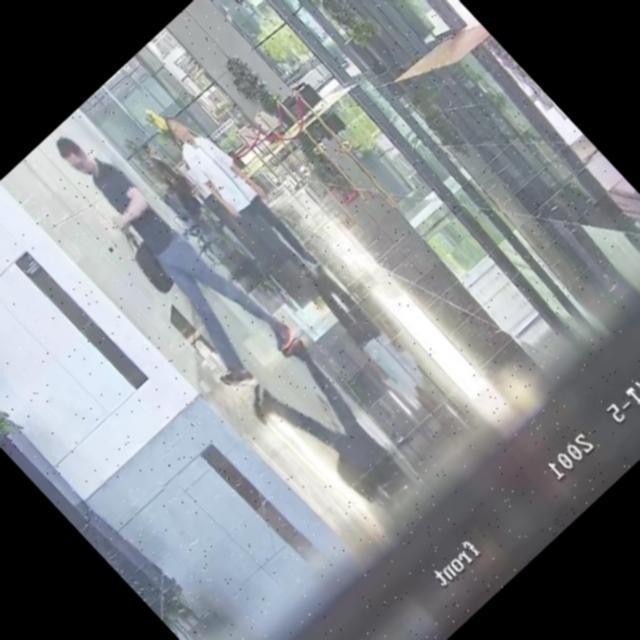person: (26, 110, 304, 398), (152, 103, 332, 290), (133, 138, 213, 222)
